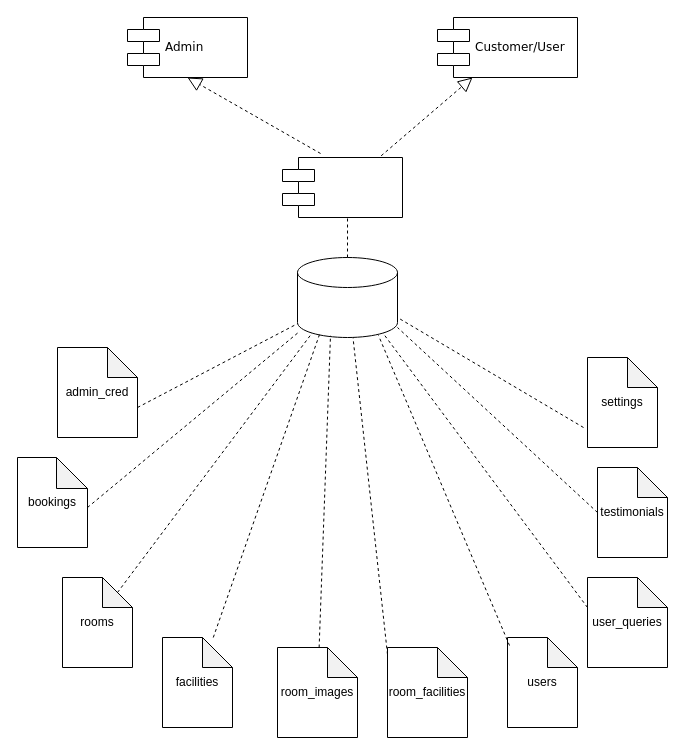
The diagram is 685 pixels wide and 755 high, and some of its shapes have lost their labels. Here are the shapes that lost their labels. From the top down, the centre of each, then its label:
At (342,187): "Radha Farm".
At (347,297): "Database".
